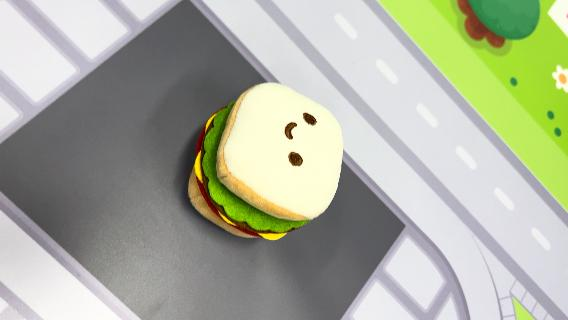sandwich: (186, 80, 346, 242)
